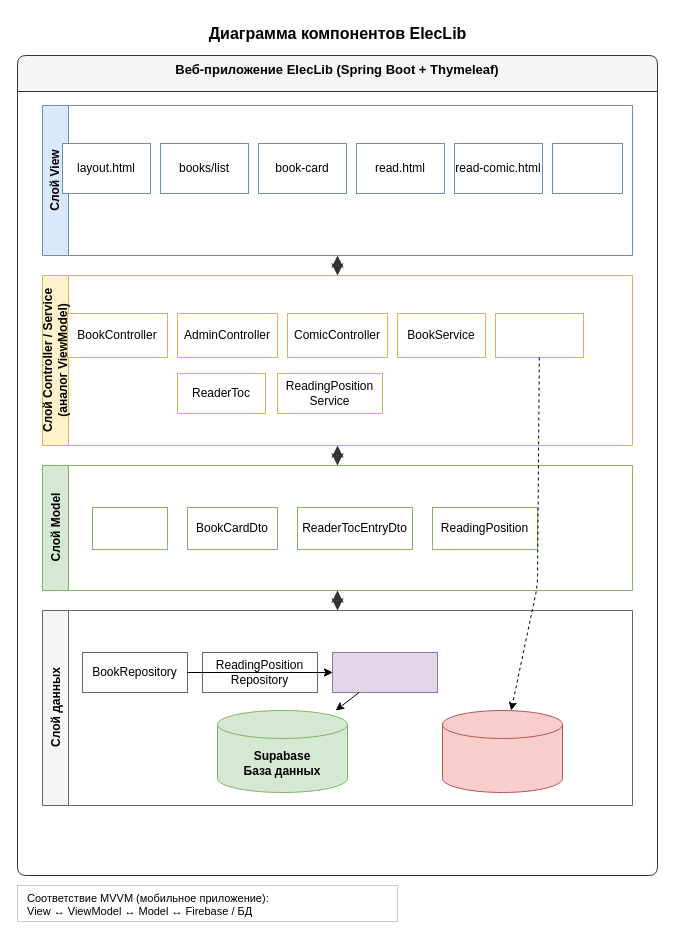
Image size: 675x939. Some labels were removed from this diagram. The shapes that lost their labels are listed below. From the top down, each one's centre as x and y in pixels, then its label:
(x=587, y=168): comics/list admin/book-form
(x=539, y=335): ComicPdfStorage Service
(x=130, y=528): Book
(x=385, y=672): SupabaseClient
(x=502, y=751): data/comics/ PDF
